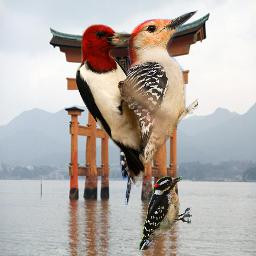Woodpecker: (119, 9, 198, 205), (75, 24, 145, 177), (139, 176, 192, 250)
